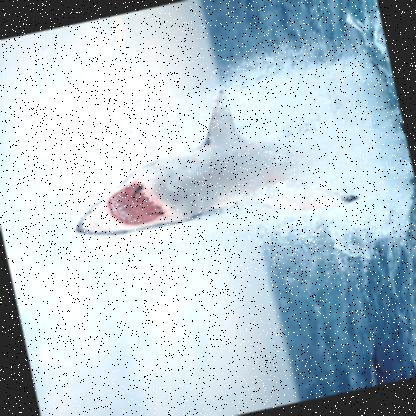white-shark: (46, 59, 388, 262)
